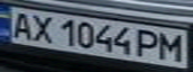0: (75, 19, 96, 51)
1: (54, 16, 78, 47)
4: (112, 25, 136, 56), (93, 22, 115, 54)
A: (6, 9, 36, 39)
M: (157, 30, 190, 62)
P: (133, 28, 163, 60)
X: (27, 11, 57, 44)
